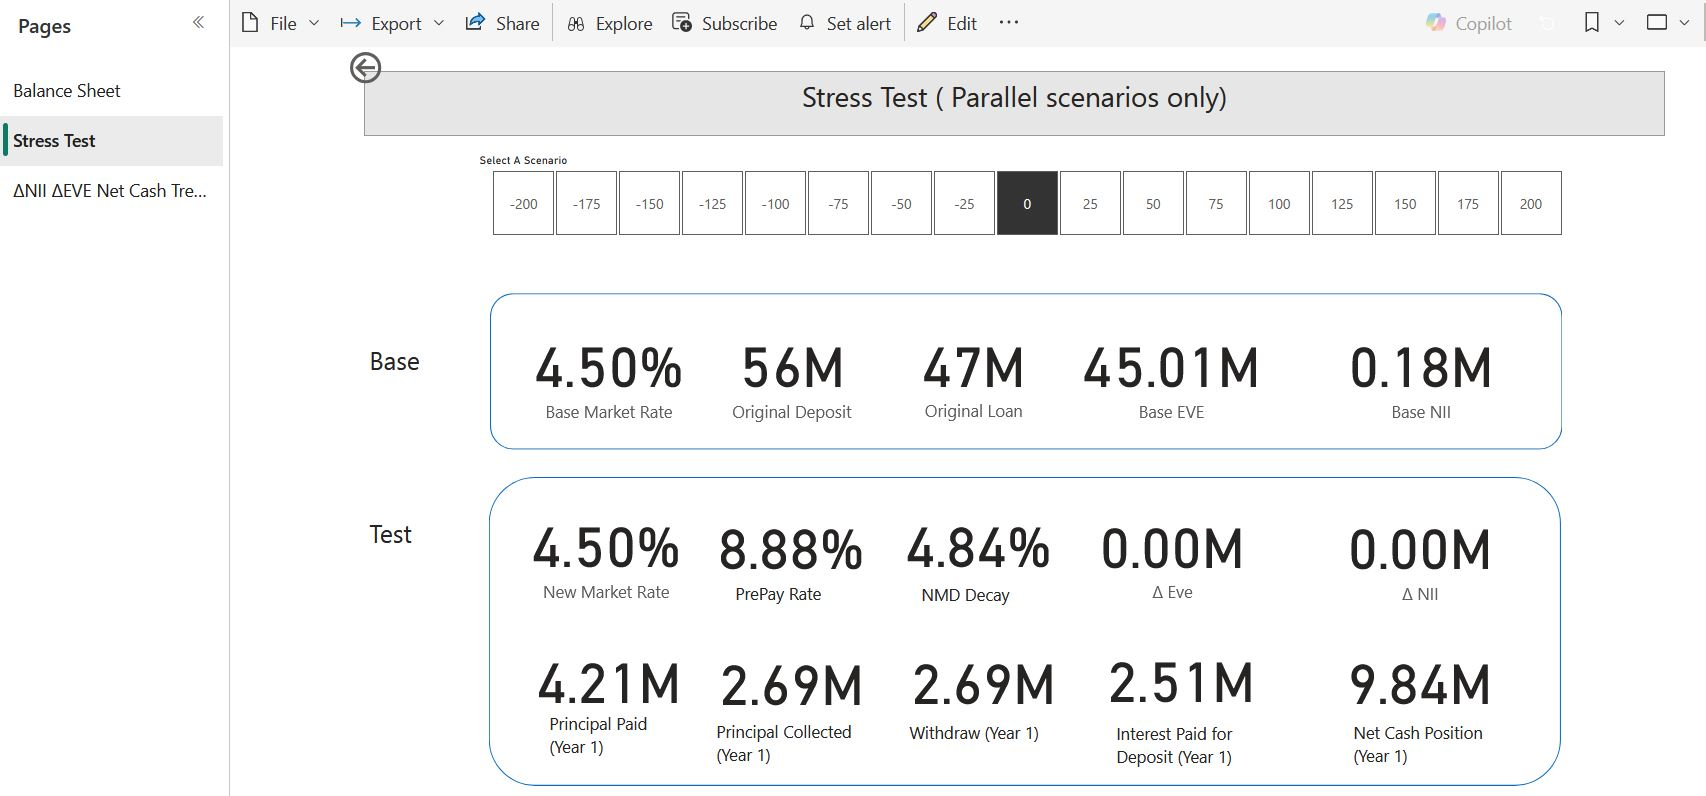

What the dashboard file says about the page in this screenshot:
{"tool":"powerbi","page":{"name":"Stress Test","canvas":[1280,720],"ordinal":1},"visuals":[{"type":"shape","box":[138.7,413.5,1030.7,296.9],"z":0},{"type":"shape","box":[139.1,236.5,1031,150.3],"z":1000},{"type":"slicer","fields":{"Values":["Stress_Test_Output.Shock_bps"]},"box":[116.9,97.4,1076.9,90.4],"z":2000},{"type":"textbox","box":[18.1,22.3,1250.8,62.6],"z":3000},{"type":"card","fields":{"Values":["Sum(Stress_Test_Output.Original_Deposit)"]},"box":[339.5,244.9,179.5,133.6],"z":4000},{"type":"card","fields":{"Values":["Sum(Stress_Test_Output.Original_Loan)"]},"box":[519,251.8,171.1,118.3],"z":5000},{"type":"card","fields":{"Values":["Stress_Test_Output.Base EVE"]},"box":[699.8,244.9,190.6,133.6],"z":6000},{"type":"card","fields":{"Values":["Stress_Test_Output.Base NII"]},"box":[922.4,244.9,224,133.6],"z":7000},{"type":"card","fields":{"Values":["Stress_Test_Output.Base Market Rate"]},"box":[158.6,244.9,190.6,133.6],"z":8000},{"type":"card","fields":{"Values":["Sum(Stress_Test_Output.Loan_Interest_Y1)"]},"box":[339.9,555.8,179.1,100.6],"z":9000},{"type":"card","fields":{"Values":["Sum(Stress_Test_Output.Prepaid_Principal_Y1)"]},"box":[168.1,546,171.8,119],"z":10000},{"type":"card","fields":{"Values":["Stress_Test_Output.Delta Eve"]},"box":[700.6,430.7,190.2,110.4],"z":11000},{"type":"card","fields":{"Values":["Stress_Test_Output.Delta NII"]},"box":[921.5,434.4,224.5,105.5],"z":12000},{"type":"card","fields":{"Values":["Sum(Stress_Test_Output.Market_Rate)"]},"box":[155.8,425.8,190.2,119],"z":13000},{"type":"textbox","box":[18.1,279.7,77.9,64],"z":14000},{"type":"textbox","box":[18.1,445.2,77.9,68.2],"z":15000},{"type":"card","fields":{"Values":["Sum(Stress_Test_Output.Net_Cash_On_Hand_Y1)"]},"box":[938.7,571.8,190.2,67.5],"z":16000},{"type":"card","fields":{"Values":["Max(Stress_Test_Output.Prepay Rate)"]},"box":[333.7,424.5,190.2,103.1],"z":17000},{"type":"card","fields":{"Values":["Max(Stress_Test_Output.NMD Decay)"]},"box":[519,427,180.4,94.5],"z":18000},{"type":"card","fields":{"Values":["Sum(Stress_Test_Output.NMD_Withdraw_Y1)"]},"box":[519,560.7,190.2,89.6],"z":19000},{"type":"card","fields":{"Values":["Sum(Stress_Test_Output.Deposit_Interest_Y1)"]},"box":[709.2,557.1,190.2,92],"z":20000},{"type":"textbox","box":[370.6,509.2,117.8,31.9],"z":21000},{"type":"textbox","box":[549.7,510.4,117.8,31.9],"z":22000},{"type":"textbox","box":[191.4,634.4,119,56.4],"z":23000},{"type":"textbox","box":[352.1,641.7,154.6,58.9],"z":24000},{"type":"actionButton","box":[0,0,100,40],"z":25000},{"type":"textbox","box":[537.4,642.9,154.6,33.1],"z":26000},{"type":"textbox","box":[736.2,644.2,154.6,54],"z":27000},{"type":"textbox","box":[963.2,642.9,154.6,60.1],"z":28000}]}

Visuals, with their boxes on the page's 1280x720 design canvas (x1, y1, x2, y2). These are canvas units, not pixel positions in the 1706x796 screenshot, which may show the page scaled, cropped or inside an application window:
shape: detection(139, 414, 1169, 710)
shape: detection(139, 236, 1170, 387)
slicer - Stress_Test_Output.Shock_bps: detection(117, 97, 1194, 188)
textbox: detection(18, 22, 1269, 85)
card - Sum(Stress_Test_Output.Original_Deposit): detection(340, 245, 519, 378)
card - Sum(Stress_Test_Output.Original_Loan): detection(519, 252, 690, 370)
card - Stress_Test_Output.Base EVE: detection(700, 245, 890, 378)
card - Stress_Test_Output.Base NII: detection(922, 245, 1146, 378)
card - Stress_Test_Output.Base Market Rate: detection(159, 245, 349, 378)
card - Sum(Stress_Test_Output.Loan_Interest_Y1): detection(340, 556, 519, 656)
card - Sum(Stress_Test_Output.Prepaid_Principal_Y1): detection(168, 546, 340, 665)
card - Stress_Test_Output.Delta Eve: detection(701, 431, 891, 541)
card - Stress_Test_Output.Delta NII: detection(922, 434, 1146, 540)
card - Sum(Stress_Test_Output.Market_Rate): detection(156, 426, 346, 545)
textbox: detection(18, 280, 96, 344)
textbox: detection(18, 445, 96, 513)
card - Sum(Stress_Test_Output.Net_Cash_On_Hand_Y1): detection(939, 572, 1129, 639)
card - Max(Stress_Test_Output.Prepay Rate): detection(334, 424, 524, 528)
card - Max(Stress_Test_Output.NMD Decay): detection(519, 427, 699, 522)
card - Sum(Stress_Test_Output.NMD_Withdraw_Y1): detection(519, 561, 709, 650)
card - Sum(Stress_Test_Output.Deposit_Interest_Y1): detection(709, 557, 899, 649)
textbox: detection(371, 509, 488, 541)
textbox: detection(550, 510, 668, 542)
textbox: detection(191, 634, 310, 691)
textbox: detection(352, 642, 507, 701)
actionButton: detection(0, 0, 100, 40)
textbox: detection(537, 643, 692, 676)
textbox: detection(736, 644, 891, 698)
textbox: detection(963, 643, 1118, 703)
